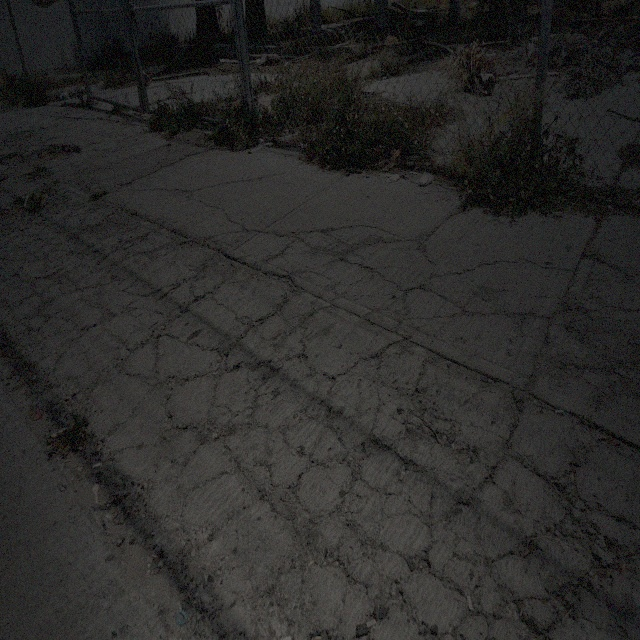pothole: (32, 140, 81, 166), (5, 197, 45, 220), (1, 148, 27, 182)
